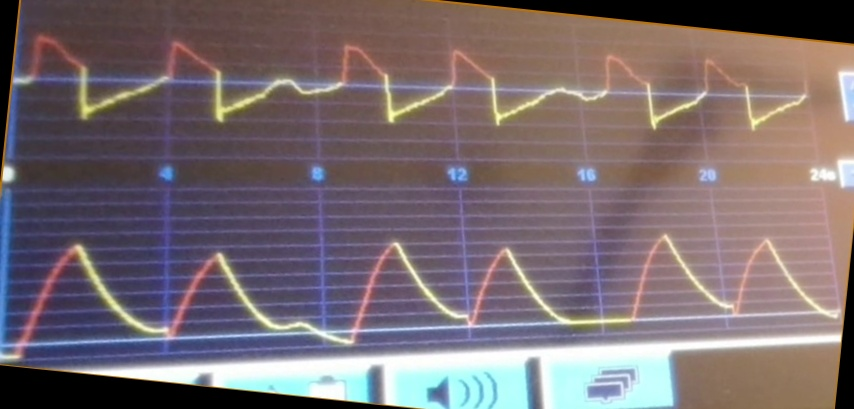Ineffective_effort Flow: (20, 30, 807, 138)
Ineffective_effort Volume: (7, 228, 838, 351)
